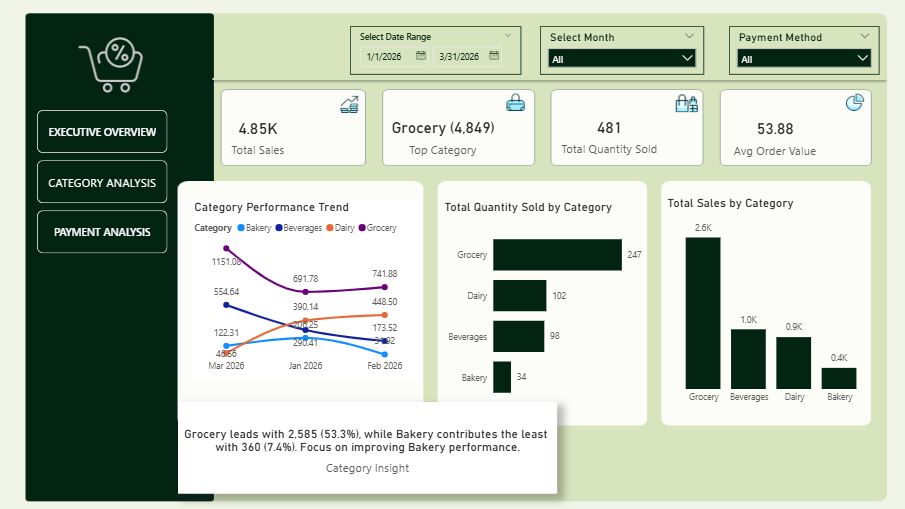

What the dashboard file says about the page in this screenshot:
{"tool":"powerbi","page":{"name":"CATEGORY ANALYSIS ","canvas":[1280,720],"ordinal":1},"visuals":[{"type":"card","fields":{"Values":["Supermarket.Total Sales"]},"box":[288.8,156.3,161.9,82.3],"z":0},{"type":"card","fields":{"Values":["Supermarket.Total Quantity Sold"]},"box":[774.4,142.3,171.6,107.4],"z":1000},{"type":"card","fields":{"Values":["Supermarket.Avg Order Value"]},"box":[1013,153.5,156.3,89.3],"z":2000},{"type":"columnChart","title":"Total Sales by Category","fields":{"Category":["Supermarket.Category"],"Y":["Supermarket.Total Sales"]},"box":[936.1,281.8,300.9,299.3],"z":3000},{"type":"slicer","fields":{"Values":["Date Table.Date"]},"box":[498.3,44.6,238.8,68.5],"z":4000},{"type":"slicer","fields":{"Values":["Date Table.Month Year"]},"box":[762.6,44.6,229.3,68.5],"z":5000},{"type":"pageNavigator","box":[61.4,161.9,182.8,200.9],"z":6000},{"type":"card","fields":{"Values":["Supermarket.Top Category Display"]},"box":[535.8,131.2,184.2,131.2],"z":7000},{"type":"lineChart","title":"Category Performance Trend","fields":{"Category":["Date Table.Month Year"],"Y":["Supermarket.Total Sales"],"Series":["Supermarket.Category"]},"box":[276.3,287.4,319.5,249.8],"z":8000},{"type":"barChart","title":"Total Quantity Sold by Category","fields":{"Category":["Supermarket.Category"],"Y":["Supermarket.Total Quantity Sold"]},"box":[625.1,287.4,286,298.6],"z":9000},{"type":"card","fields":{"Values":["Supermarket.Category Insight"]},"box":[258.1,569.3,528.8,128.4],"z":10000},{"type":"slicer","fields":{"Values":["Supermarket.PaymentMethod"]},"box":[1026.9,44.6,210.1,68.5],"z":11000}]}

Visuals, with their boxes in screenshot pixels (x1, y1, x2, y2), scaled from the page's 1280x720 canvas onto the 905x509 screenshot:
card - Supermarket.Total Sales: 204 110 319 169
card - Supermarket.Total Quantity Sold: 548 101 669 177
card - Supermarket.Avg Order Value: 716 109 827 172
"Total Sales by Category" columnChart: 662 199 875 411
slicer - Date Table.Date: 352 32 521 80
slicer - Date Table.Month Year: 539 32 701 80
pageNavigator: 43 114 173 256
card - Supermarket.Top Category Display: 379 93 509 186
"Category Performance Trend" lineChart: 195 203 421 380
"Total Quantity Sold by Category" barChart: 442 203 644 414
card - Supermarket.Category Insight: 182 402 556 493
slicer - Supermarket.PaymentMethod: 726 32 875 80
